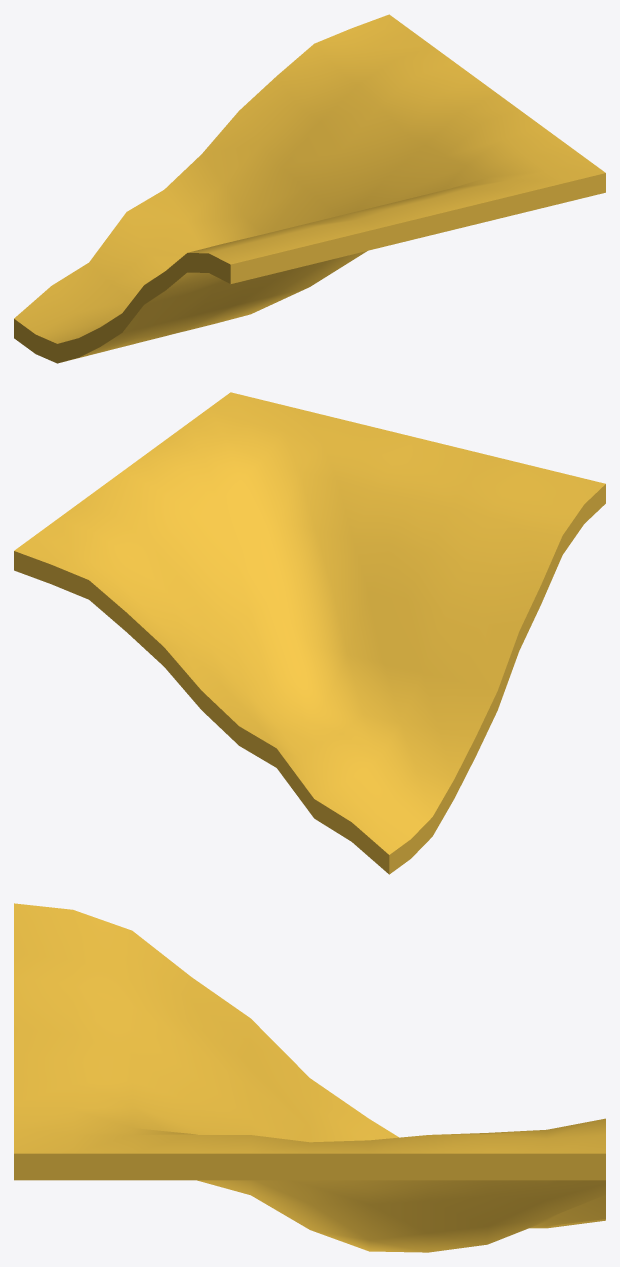
The model's file is Steil - Unten -  Ecke Invertiert b - a.fbx.
The picture shows the model from 3 angles, top to bottom: view 1: azimuth 30°, elevation 25°; view 2: azimuth 150°, elevation 25°; view 3: azimuth 270°, elevation 25°; orthographic projection. The views are drawn at different scales.
Visible parts, largest first — view 1: Steil - Unten - Ecke Invertiert b - a; view 2: Steil - Unten - Ecke Invertiert b - a; view 3: Steil - Unten - Ecke Invertiert b - a.
Part boxes in pixels (x1,y1,x2,y2): Steil - Unten - Ecke Invertiert b - a: [14, 14, 605, 363]; Steil - Unten - Ecke Invertiert b - a: [14, 392, 605, 874]; Steil - Unten - Ecke Invertiert b - a: [14, 903, 605, 1252].
Bounding box in the file's own units: 394 × 233 × 394.
